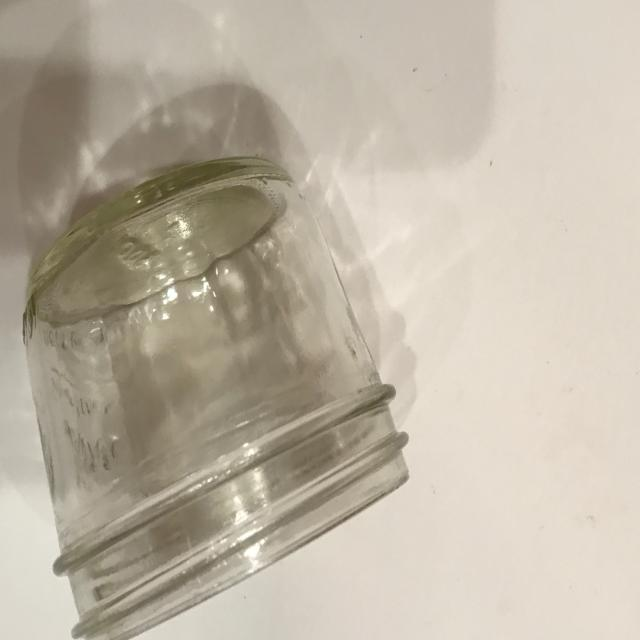glass: (22, 155, 410, 640)
